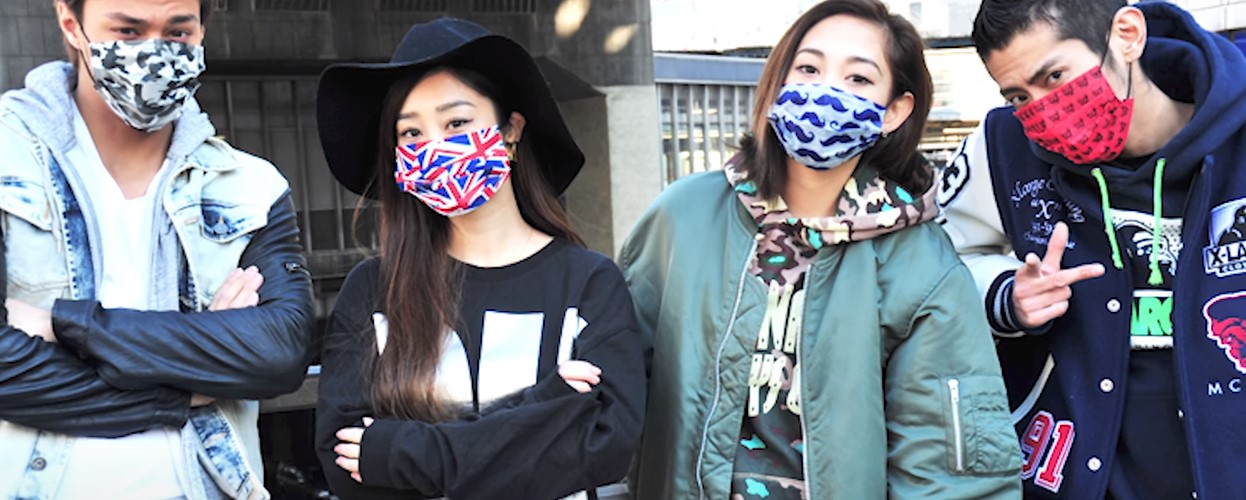face_with_mask: (371, 32, 536, 227), (967, 1, 1149, 171), (759, 1, 923, 177), (51, 4, 212, 141)
